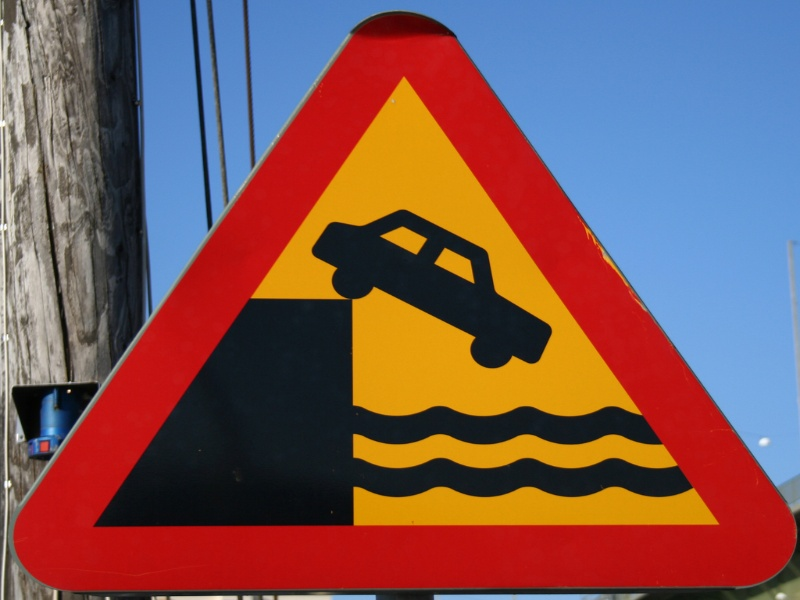cliff_edge: (110, 24, 768, 556)
